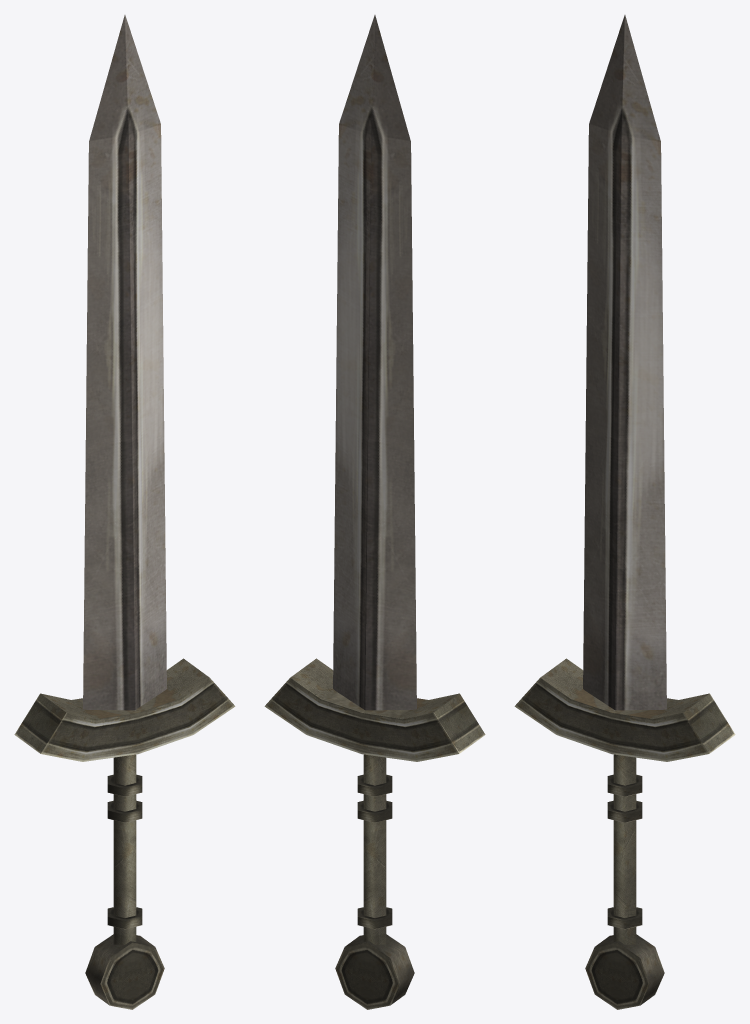
Rendered from 44_weapon.FBX.
The picture shows the model from 3 angles, left to right: view 1: azimuth 30°, elevation 25°; view 2: azimuth 150°, elevation 25°; view 3: azimuth 330°, elevation 25°; orthographic projection.
Visible parts, largest first — view 1: 44_dagger; view 2: 44_dagger; view 3: 44_dagger.
Boxes of the visible parts, box(x1,y1,x2,y2) form: 44_dagger: box(14, 15, 235, 1009); 44_dagger: box(264, 15, 485, 1009); 44_dagger: box(514, 15, 735, 1009).
Bounding box in the file's own units: 374 × 1814 × 87.01.
